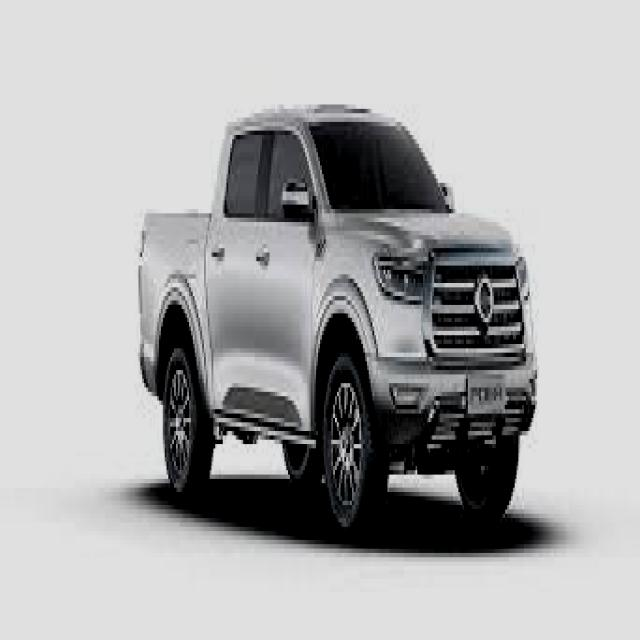CMT: (143, 110, 532, 536)
